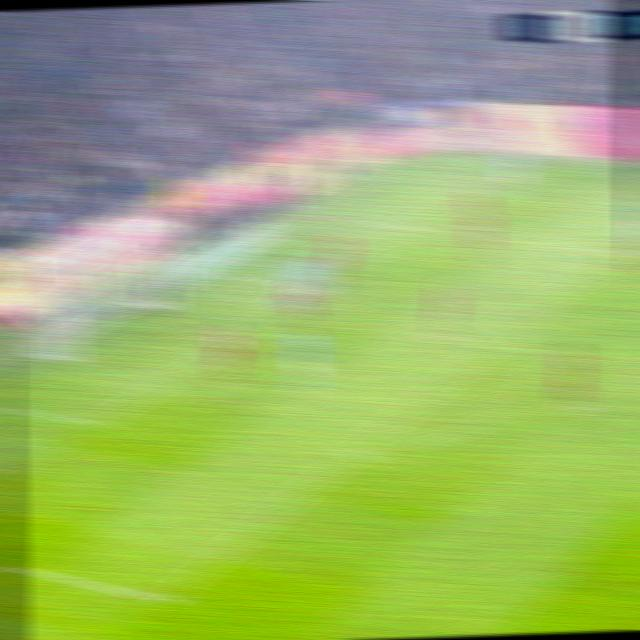bigarea_bottom_inner: (140, 579, 186, 618)
bigarea_top_inner: (598, 235, 637, 269)
bigarea_top_outter: (320, 203, 354, 230)
bottom_arc_area_intersection: (334, 432, 375, 470)
corner: (432, 148, 468, 165)
smallarea_bottom_inner: (76, 404, 117, 440)
smallarea_top_inner: (302, 278, 331, 299)
smallarea_top_outter: (211, 262, 249, 288)
top_arc_area_intersection: (489, 317, 530, 348)
